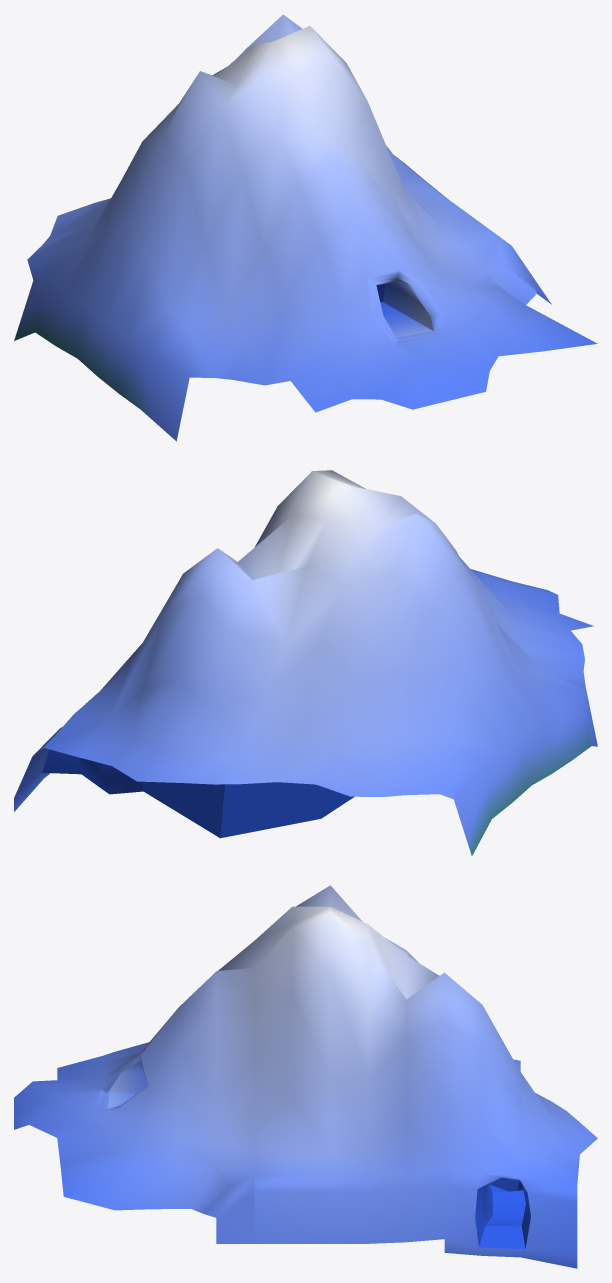
The model's file is Double entraces moutian island 1.fbx.
The picture shows the model from 3 angles, top to bottom: view 1: azimuth 30°, elevation 25°; view 2: azimuth 150°, elevation 25°; view 3: azimuth 270°, elevation 25°; orthographic projection. The views are drawn at different scales.
Visible parts, largest first — view 1: pPlane2; view 2: pPlane2; view 3: pPlane2.
Boxes of the visible parts, x1,y1,x2,y2 form: pPlane2: (14,14,597,441); pPlane2: (14,470,597,855); pPlane2: (14,885,597,1268).
Bounding box in the file's own units: 25.11 × 18.39 × 34.35.
